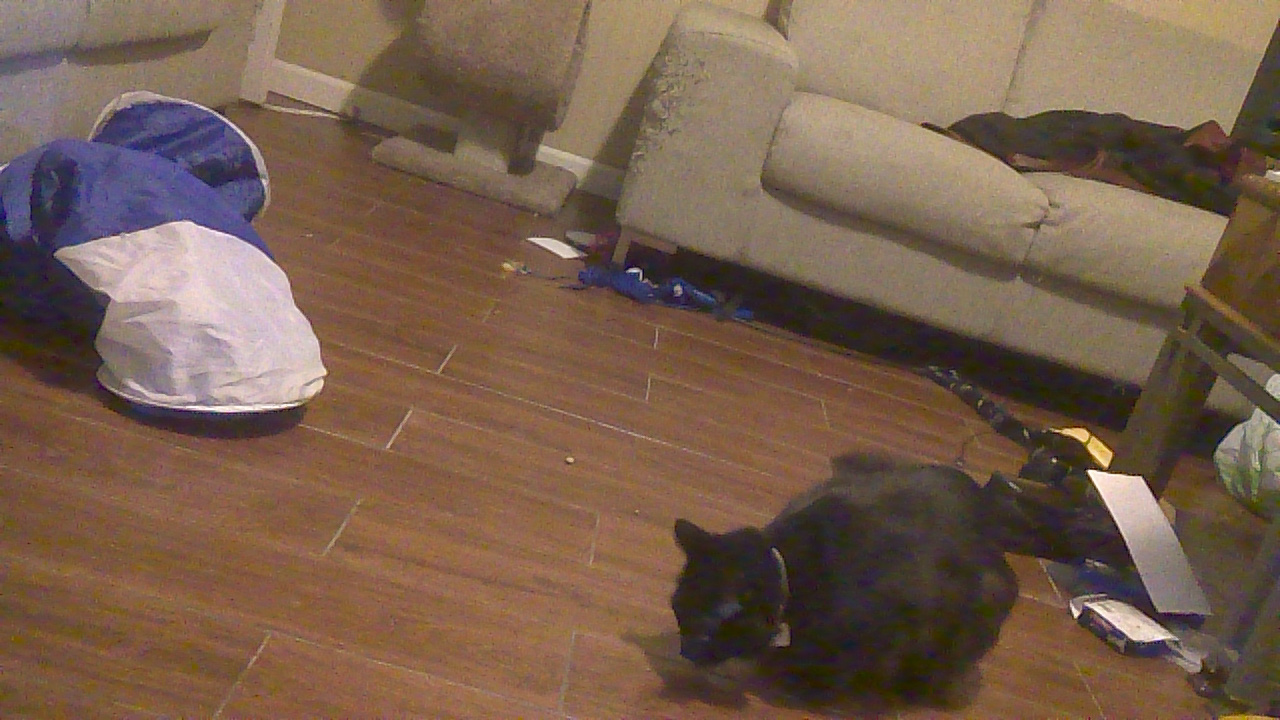cat: (658, 428, 1025, 709)
